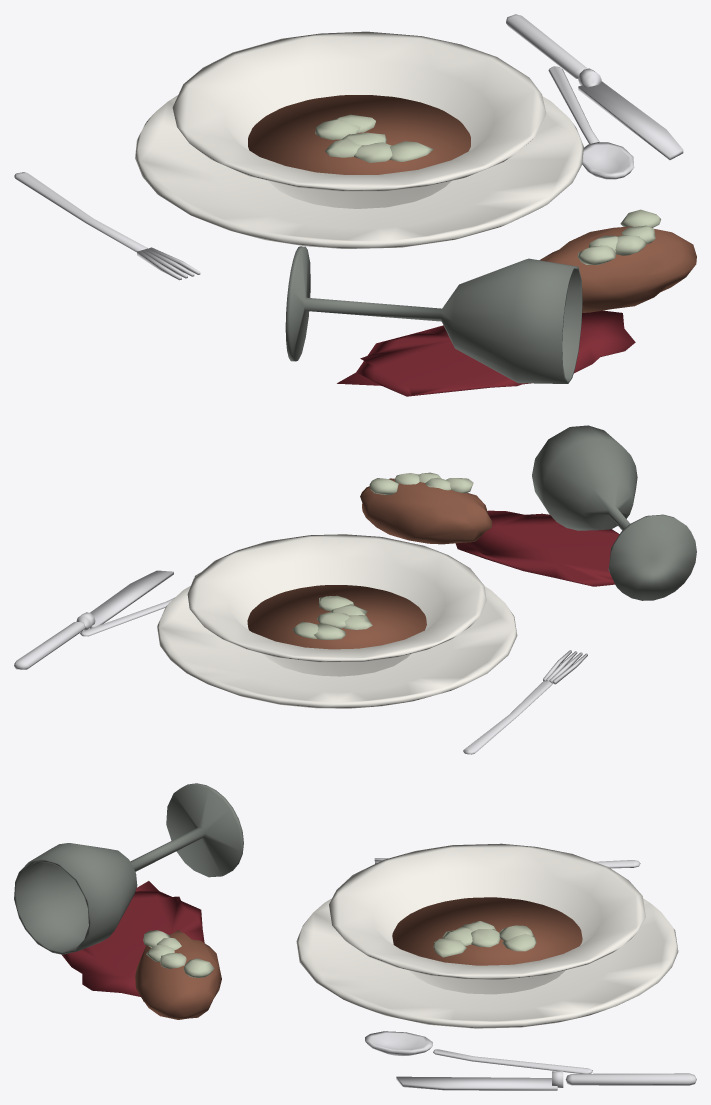
Rendered from setting_soup.glb.
3 renders of one model, top to bottom at view 1: azimuth 30°, elevation 25°; view 2: azimuth 150°, elevation 25°; view 3: azimuth 270°, elevation 25°, orthographic. The views are drawn at different scales.
Visible parts, largest first — view 1: setting_soup; view 2: setting_soup; view 3: setting_soup.
Boxes of the visible parts, x1,y1,x2,y2 form: setting_soup: (14,14,696,396); setting_soup: (14,425,696,754); setting_soup: (14,783,696,1090).
Bounding box in the file's own units: 0.3807 × 0.077 × 0.4861.
